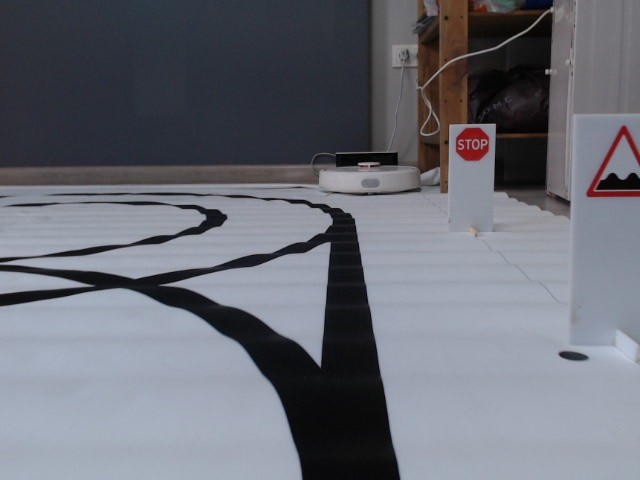Nerov: (585, 120, 637, 207)
Stop: (454, 127, 490, 161)
